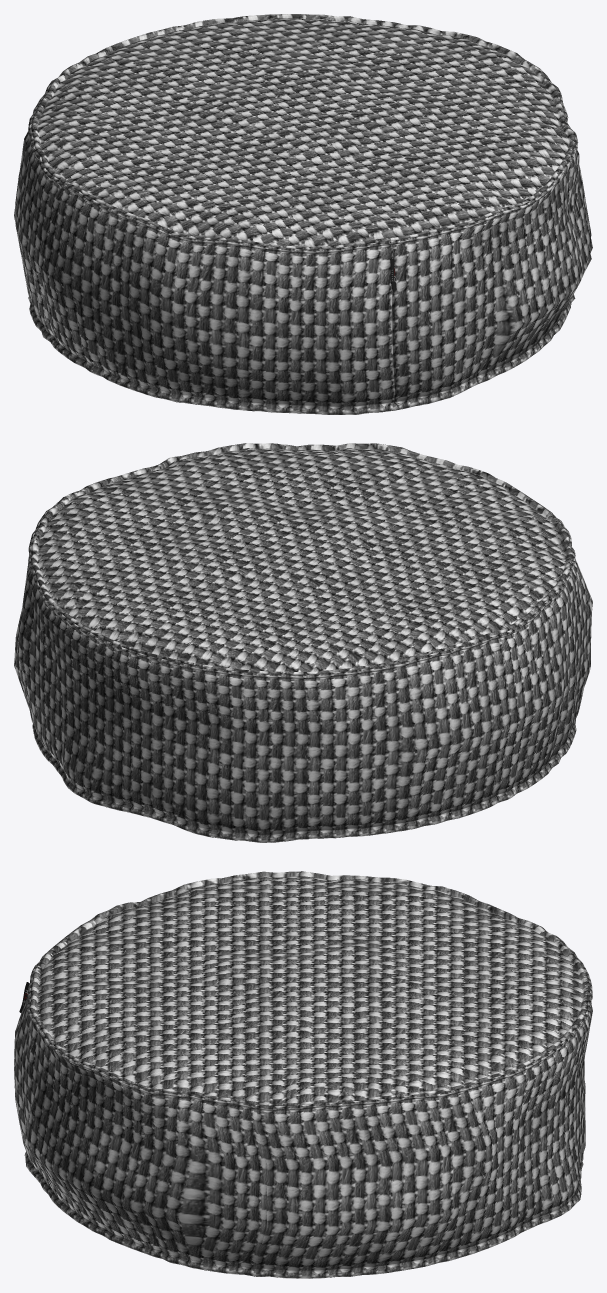
The picture shows the model from 3 angles, top to bottom: view 1: azimuth 30°, elevation 25°; view 2: azimuth 150°, elevation 25°; view 3: azimuth 270°, elevation 25°; orthographic projection.
Parts seen in each view (by area): view 1: Globewest Orlando Seamed Round Ottoman; view 2: Globewest Orlando Seamed Round Ottoman; view 3: Globewest Orlando Seamed Round Ottoman.
Boxes of the visible parts, x1,y1,x2,y2 form: Globewest Orlando Seamed Round Ottoman: [14, 14, 592, 414]; Globewest Orlando Seamed Round Ottoman: [14, 443, 592, 842]; Globewest Orlando Seamed Round Ottoman: [14, 871, 592, 1278].
Size of the model in its own units: 0.9936 by 0.366 by 0.9793.
Materials: 2 (2 with a texture image).
